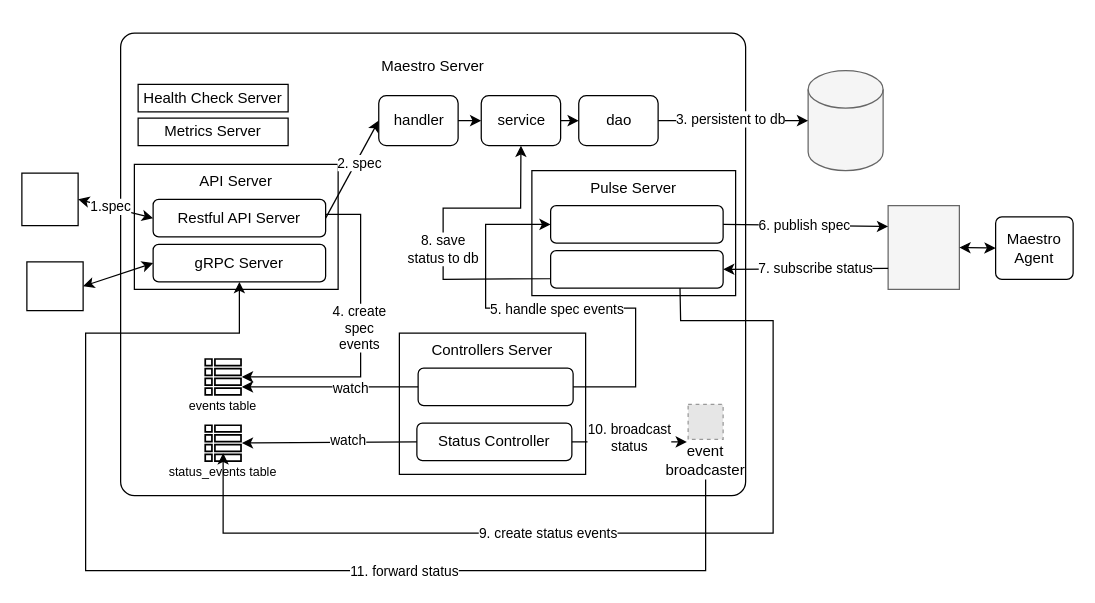
The diagram is 1095 pixels wide and 603 high, and some of its shapes have lost their labels. Grey dashed boxes stand in for pictures. The centre of each missing label's shape, as x and y in pixels:
"DB" goes at (x=845, y=120).
"gRPC Client" goes at (x=54, y=286).
"Kind Controller Manager" goes at (x=495, y=386).
"MQTT Broker" goes at (x=923, y=246).
"Rest Client" goes at (x=49, y=199).
"Source Client" goes at (x=636, y=223).
"Status Dispatcher" goes at (x=636, y=268).
